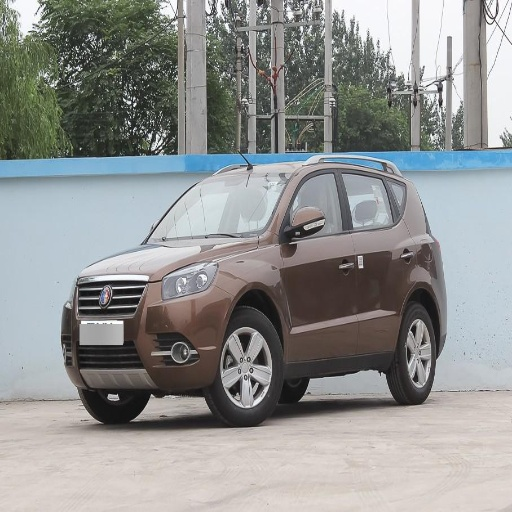front_bumper: (61, 274, 232, 391)
front_glass: (151, 167, 285, 245)
front_left_door: (280, 166, 358, 360)
